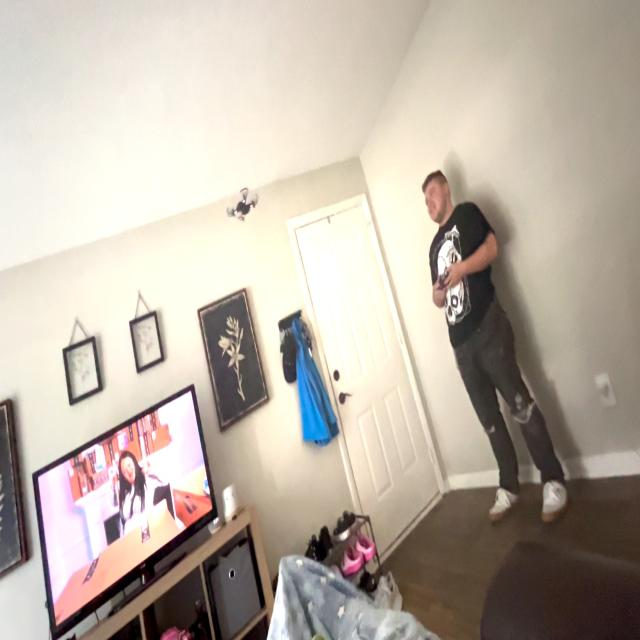drone: (219, 174, 260, 227)
